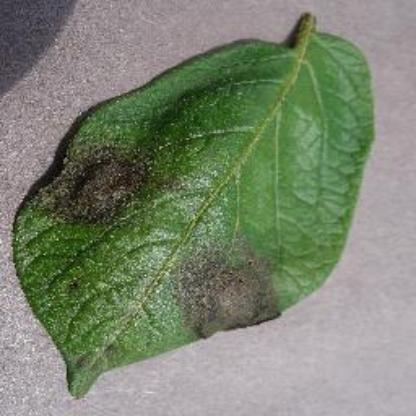Late-Blight: (13, 12, 387, 400)
